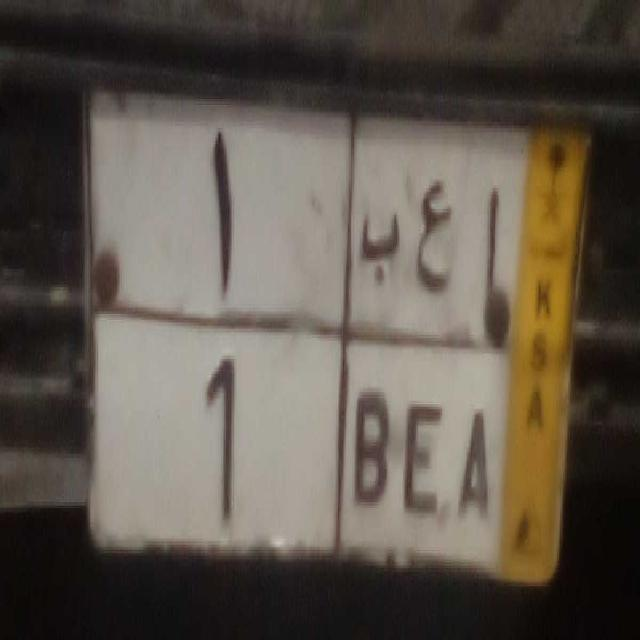license_plate: (99, 316, 508, 574)
